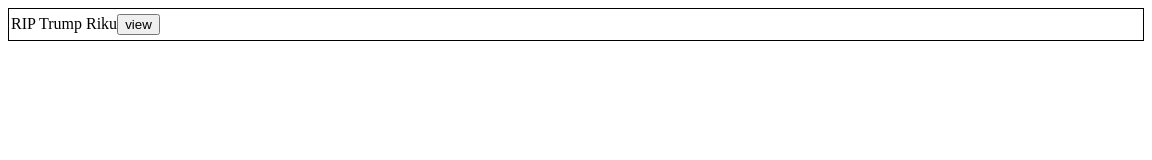
clicking a button opens expanded details
This screenshot has width=1152, height=160.
Click the button "view": [138, 24] box x1=117 y1=14 x2=160 y2=35
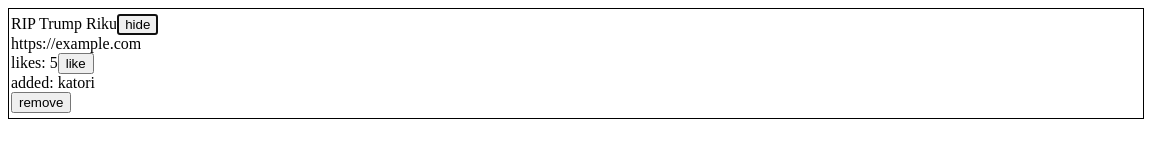
Check: the text "RIP Trump" is shown, box x1=11 y1=15 x2=82 y2=32
Check: the text "likes: 5" is shown, box x1=11 y1=53 x2=94 y2=74
Check: the text "https://example.com" is shown, box x1=11 y1=35 x2=141 y2=52
